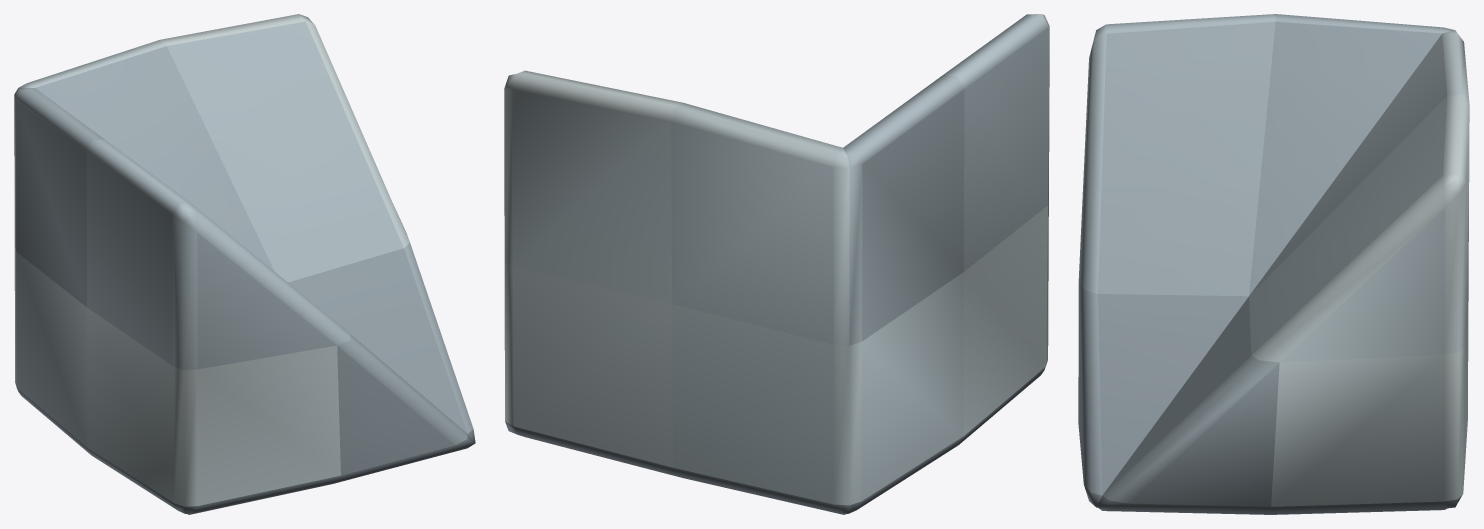
Rendered from Quartz_2x2_Slope_Inner.fbx.
3 renders of one model, left to right at view 1: azimuth 30°, elevation 25°; view 2: azimuth 150°, elevation 25°; view 3: azimuth 270°, elevation 25°, orthographic. The views are drawn at different scales.
Visible parts, largest first — view 1: Quartz_2x2_Slope_Inner_LOD0; view 2: Quartz_2x2_Slope_Inner_LOD0; view 3: Quartz_2x2_Slope_Inner_LOD0.
Part boxes in pixels (<box>): Quartz_2x2_Slope_Inner_LOD0: <box>14,14,475,514</box>; Quartz_2x2_Slope_Inner_LOD0: <box>504,14,1049,514</box>; Quartz_2x2_Slope_Inner_LOD0: <box>1078,14,1469,514</box>.
Size of what is drawn, in the model's own units: 1.11 by 1.09 by 1.09.
